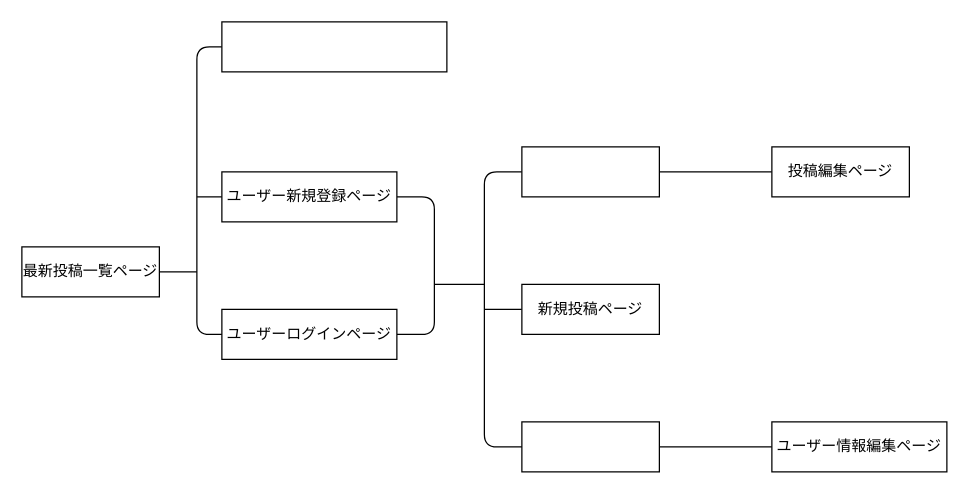
This 969x494 diagram has some shape labels left out. The centre of each missing label's shape, as x and y in pixels:
ユーザー詳細ページ: [590,446]
投稿ジャンル別投稿一覧ページ: [334,46]
投稿詳細ページ: [590,171]
